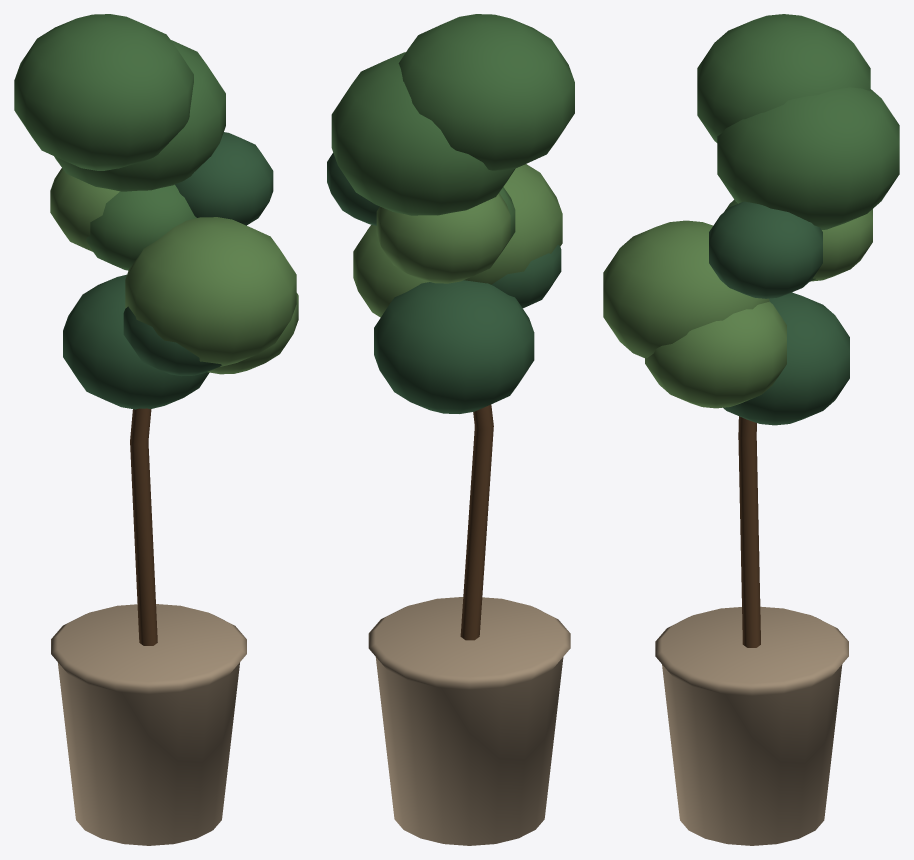
File: floor-plant.glb
3 views of the same model, side by side, from view 1: azimuth 30°, elevation 25°; view 2: azimuth 150°, elevation 25°; view 3: azimuth 270°, elevation 25° (orthographic). The views are drawn at different scales.
Parts seen in each view (by area): view 1: toon_foliage, toon_decor, toon_wood; view 2: toon_foliage, toon_decor, toon_wood; view 3: toon_foliage, toon_decor, toon_wood.
Boxes of the visible parts, bbox=[...] form: toon_foliage: bbox=[14, 14, 298, 409]; toon_decor: bbox=[51, 604, 246, 845]; toon_wood: bbox=[130, 408, 157, 645]; toon_foliage: bbox=[327, 14, 574, 413]; toon_decor: bbox=[368, 597, 570, 845]; toon_wood: bbox=[460, 404, 493, 640]; toon_foliage: bbox=[603, 14, 899, 425]; toon_decor: bbox=[655, 606, 848, 845]; toon_wood: bbox=[738, 416, 760, 647].
Size of the model in its own units: 0.5741 by 1.87 by 0.6465.
